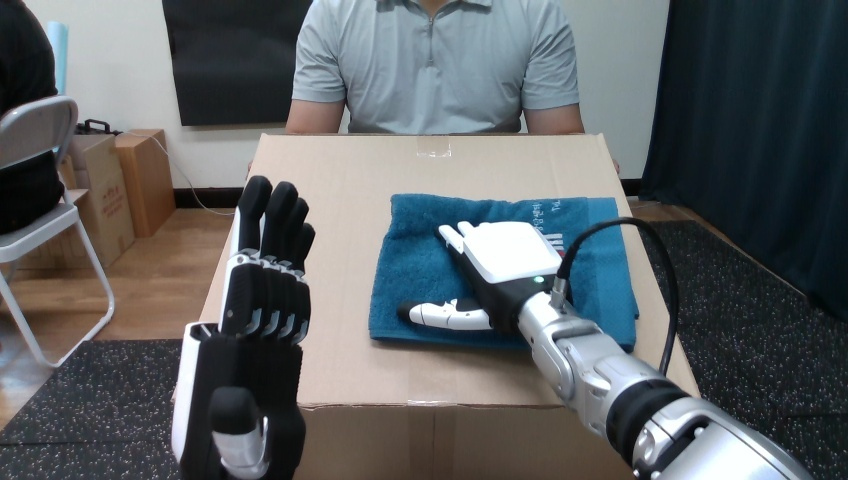left robot hand: (398, 217, 810, 479), (172, 176, 314, 478), (566, 223, 670, 370)
